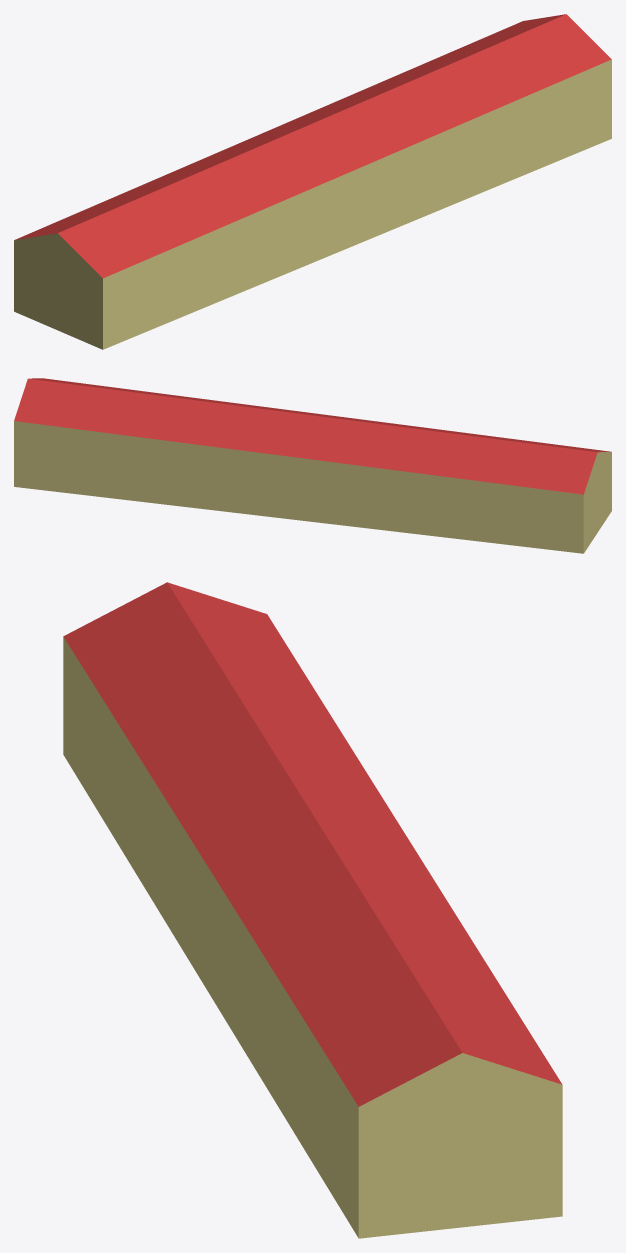
3 views of the same model, one above another, from view 1: azimuth 30°, elevation 25°; view 2: azimuth 150°, elevation 25°; view 3: azimuth 270°, elevation 25° (orthographic). The views are drawn at different scales.
Bounding box in the file's own units: 43.05 × 17.94 × 6.92.
